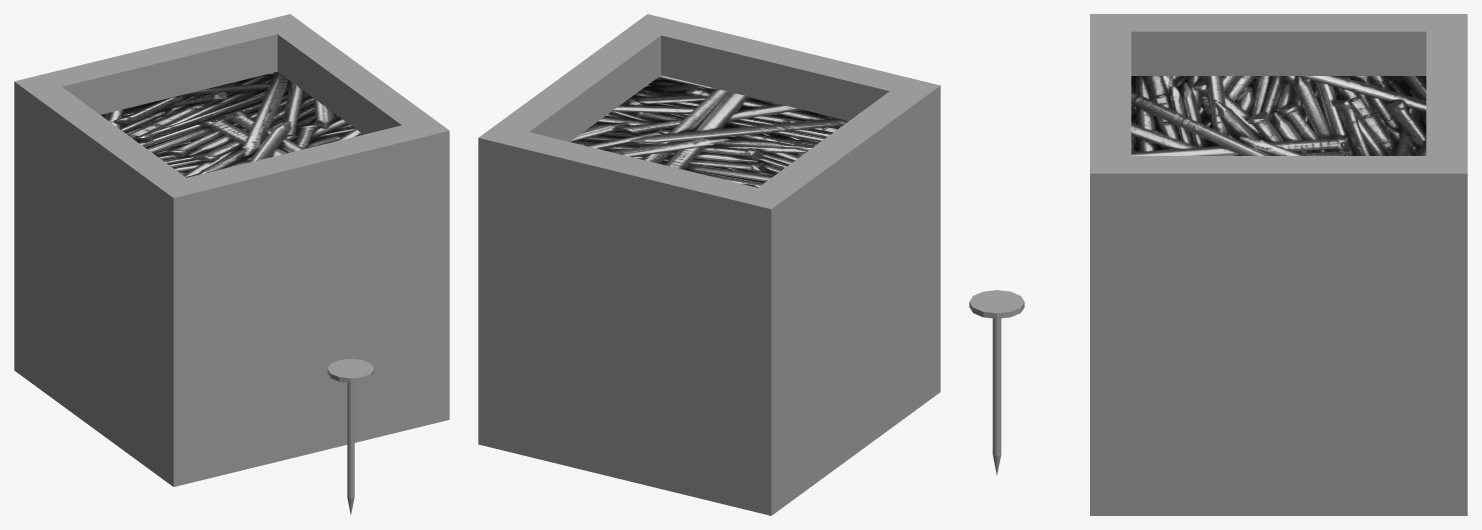
Rendered from NailBox.fbx.
The picture shows the model from 3 angles, left to right: view 1: azimuth 30°, elevation 25°; view 2: azimuth 150°, elevation 25°; view 3: azimuth 270°, elevation 25°; orthographic projection. The views are drawn at different scales.
Parts seen in each view (by area): view 1: pCube1, pCylinder1; view 2: pCube1; view 3: pCube1, pCylinder1.
Boxes of the visible parts, <box> form: pCube1: <box>14,14,449,486</box>; pCylinder1: <box>327,359,374,514</box>; pCube1: <box>478,14,940,515</box>; pCube1: <box>1090,14,1467,515</box>; pCylinder1: <box>969,290,1024,474</box>.
Bounding box in the file's own units: 4.66 × 5.2 × 6.15.
2 materials, 1 textured.
